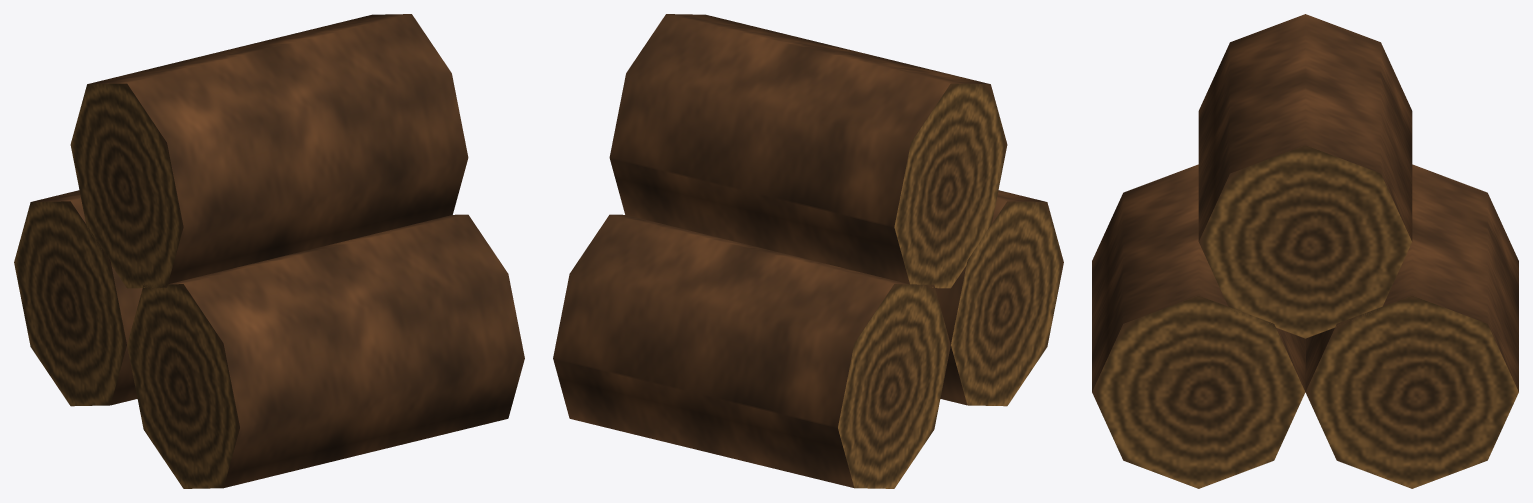
The model's file is wood_3.glb.
3 views of the same model, side by side, from view 1: azimuth 30°, elevation 25°; view 2: azimuth 150°, elevation 25°; view 3: azimuth 270°, elevation 25° (orthographic). The views are drawn at different scales.
Parts seen in each view (by area): view 1: wood; view 2: wood; view 3: wood.
Part boxes in pixels (x1=…): wood: x1=14, y1=14, x2=524, y2=488; wood: x1=553, y1=14, x2=1063, y2=488; wood: x1=1092, y1=14, x2=1518, y2=488.
Bounding box in the file's own units: 0.32 × 0.3909 × 0.44.
Materials: 2 (2 with a texture image).
